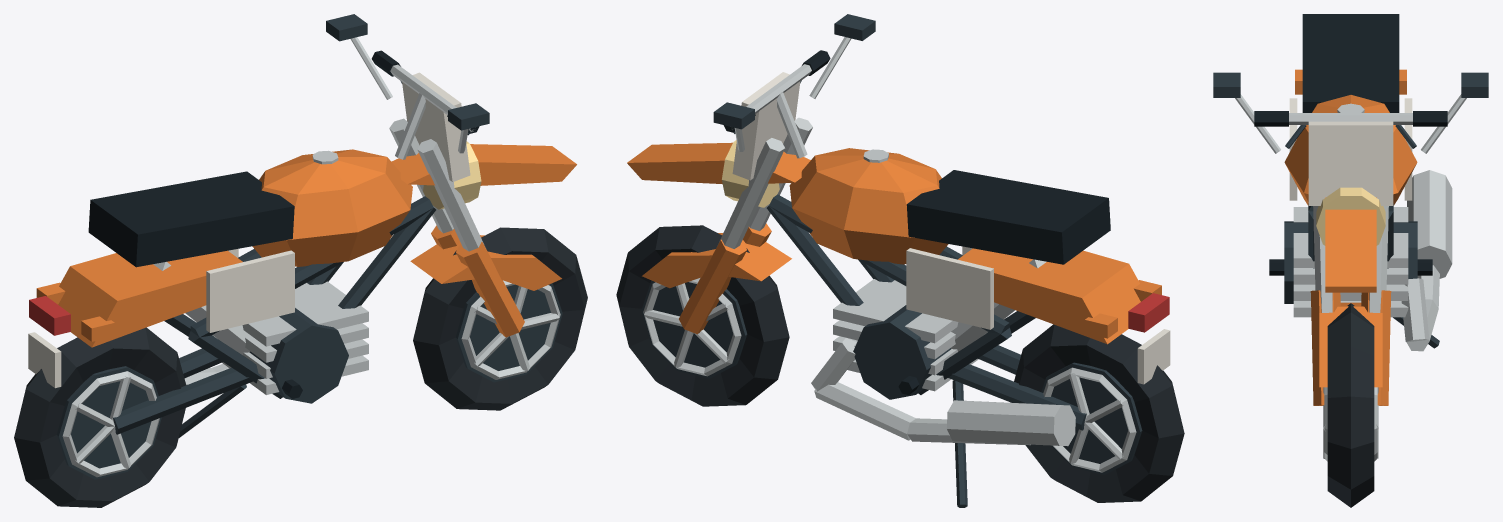
Rendered from b03_long_fork_dirt_motorcycle.glb.
3 views of the same model, side by side, from view 1: azimuth 30°, elevation 25°; view 2: azimuth 150°, elevation 25°; view 3: azimuth 270°, elevation 25° (orthographic). The views are drawn at different scales.
Visible parts, largest first — view 1: b03_long_fork_dirt_motorcycle; view 2: b03_long_fork_dirt_motorcycle; view 3: b03_long_fork_dirt_motorcycle.
Part boxes in pixels (box(x1,y1,x2,y2)): b03_long_fork_dirt_motorcycle: box(14, 14, 587, 507); b03_long_fork_dirt_motorcycle: box(616, 14, 1184, 507); b03_long_fork_dirt_motorcycle: box(1213, 14, 1488, 507).
Size of the model in its own units: 2.23 by 1.36 by 0.91.
